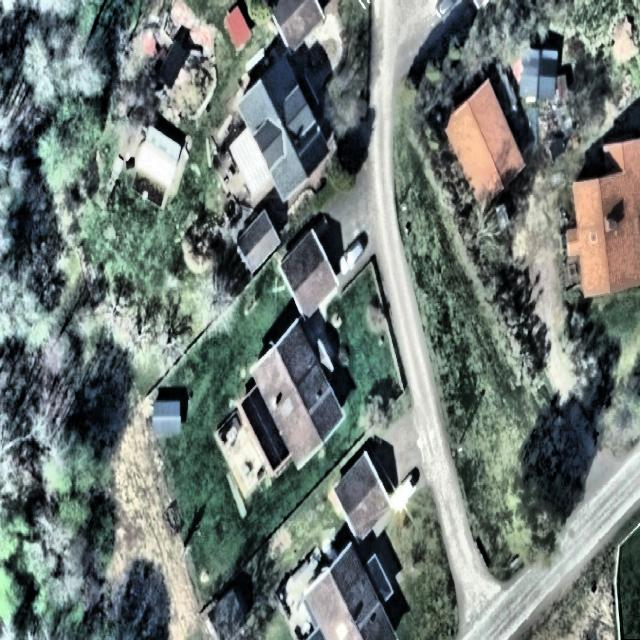roof_pv: (242, 387, 288, 469)
